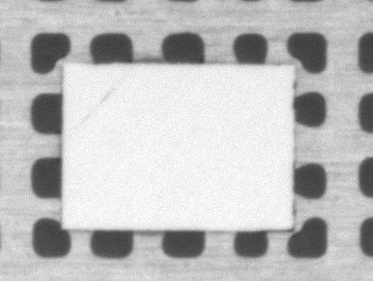DIE_CRACK: (69, 69, 136, 130)
